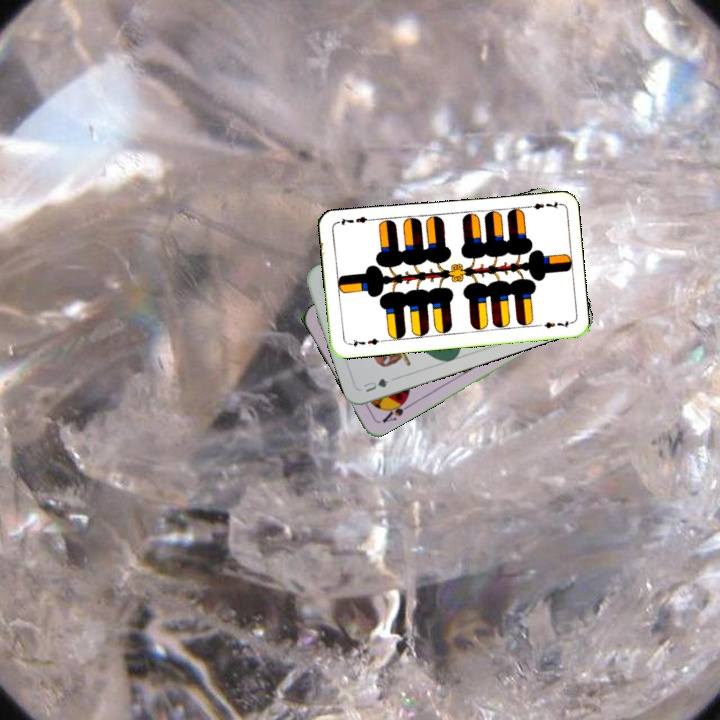E7: (344, 334, 385, 349), (521, 197, 562, 212)
GU: (359, 374, 391, 395)
SA: (378, 395, 414, 426)
